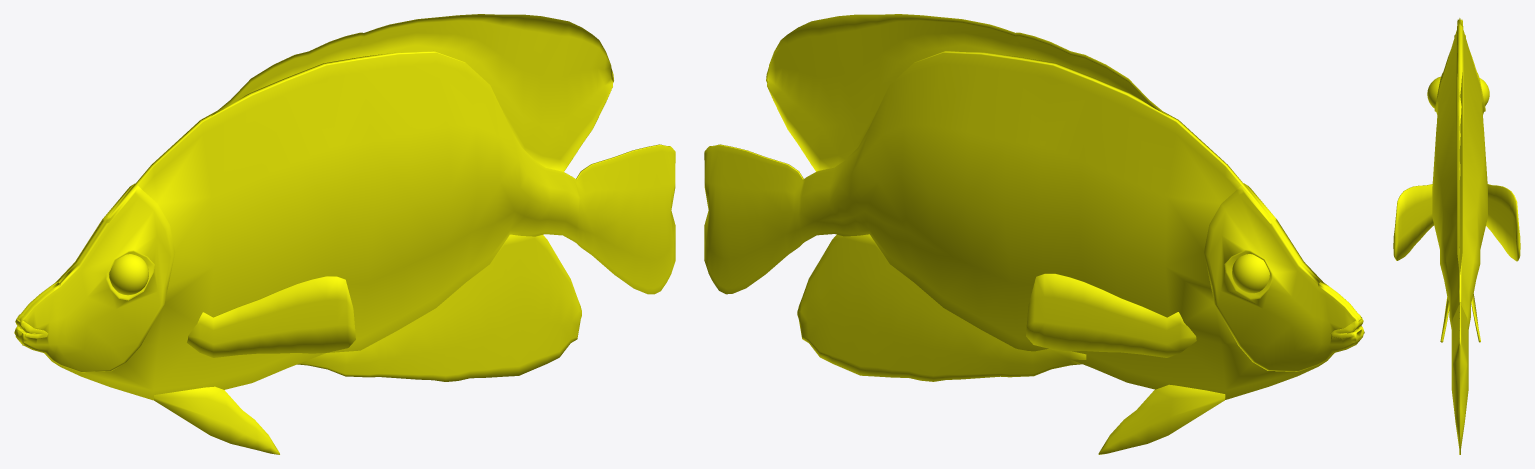
The model's file is calm-fish.glb.
3 renders of one model, left to right at view 1: azimuth 30°, elevation 25°; view 2: azimuth 150°, elevation 25°; view 3: azimuth 270°, elevation 25°, orthographic. The views are drawn at different scales.
Parts seen in each view (by area): view 1: Cube, Plane.001, Plane, Plane.004, Plane.002, Sphere; view 2: Cube, Plane.001, Plane, Plane.005, Plane.003, Sphere.001; view 3: Cube, Plane.004, Plane.005, Plane.001, Sphere, Plane.003, Plane.002, Sphere.001.
Part boxes in pixels (<box>): Cube: <box>14,51,675,400</box>; Plane.001: <box>211,14,613,171</box>; Plane: <box>297,234,581,381</box>; Plane.004: <box>187,276,355,357</box>; Plane.002: <box>154,386,279,454</box>; Sphere: <box>109,254,148,295</box>; Cube: <box>704,50,1364,399</box>; Plane.001: <box>766,14,1167,171</box>; Plane: <box>797,234,1086,381</box>; Plane.005: <box>1026,273,1196,357</box>; Plane.003: <box>1098,384,1225,454</box>; Sphere.001: <box>1232,254,1269,293</box>; Cube: <box>1432,19,1487,454</box>; Plane.004: <box>1393,184,1433,260</box>; Plane.005: <box>1486,184,1520,261</box>; Plane.001: <box>1457,18,1462,289</box>; Sphere: <box>1427,76,1440,108</box>; Plane.003: <box>1471,294,1480,342</box>; Plane.002: <box>1440,297,1449,342</box>; Sphere.001: <box>1479,78,1489,105</box>.
Bounding box in the file's own units: 4.89 × 2.8 × 0.9524.
3 materials, 3 textured.
